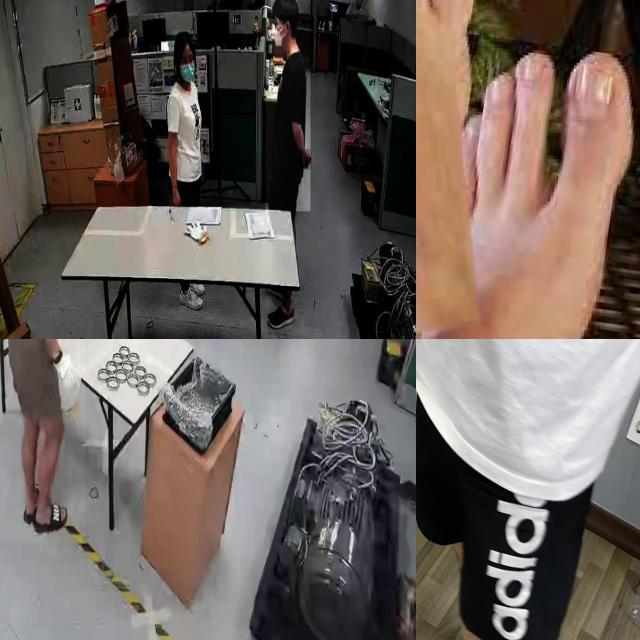Barefoots: (416, 0, 525, 339)
face_mask: (179, 55, 197, 90), (270, 18, 286, 55)
hand_glove: (53, 339, 80, 396)
hand_noglove: (300, 149, 312, 171), (169, 189, 181, 207)
head_nohelmet: (173, 30, 195, 50), (270, 0, 297, 16)
person: (0, 339, 85, 543), (265, 0, 310, 212), (165, 37, 207, 203)
shoes: (265, 300, 297, 334), (178, 285, 206, 312)
